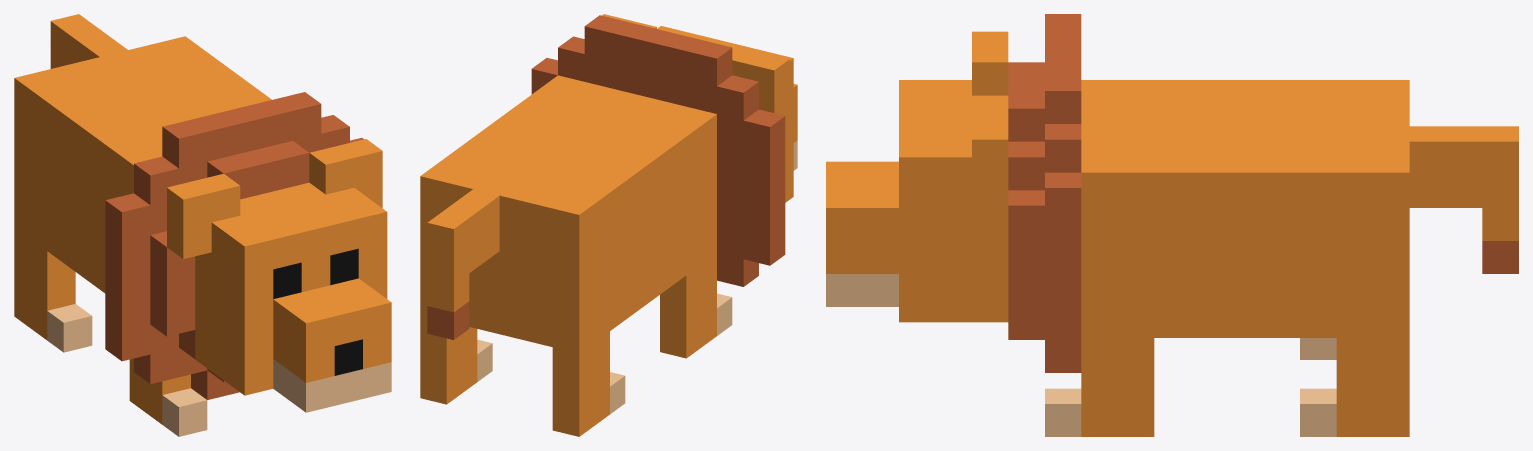
Rendered from lion.glb.
The picture shows the model from 3 angles, left to right: view 1: azimuth 30°, elevation 25°; view 2: azimuth 150°, elevation 25°; view 3: azimuth 270°, elevation 25°; orthographic projection. The views are drawn at different scales.
Parts seen in each view (by area): view 1: Untitled; view 2: Untitled; view 3: Untitled.
Boxes of the visible parts, x1=… form: Untitled: x1=14, y1=14, x2=391, y2=436; Untitled: x1=420, y1=14, x2=797, y2=436; Untitled: x1=826, y1=14, x2=1518, y2=436.
Bounding box in the file's own units: 0.9 × 1 × 1.9.
Materials: 1 (1 with a texture image).
